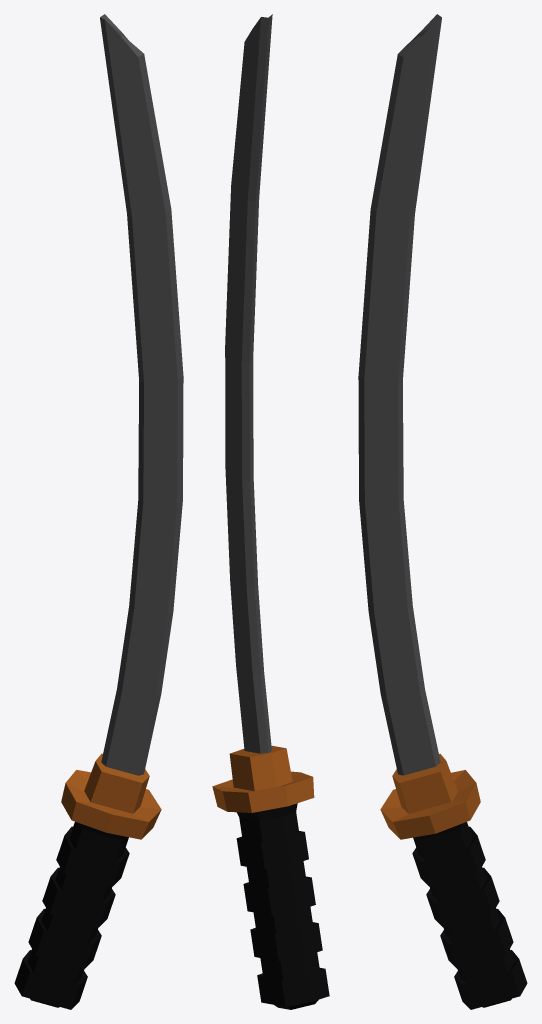
Rendered from Katana.glb.
The picture shows the model from 3 angles, left to right: view 1: azimuth 90°, elevation 25°; view 2: azimuth 210°, elevation 25°; view 3: azimuth 270°, elevation 25°; orthographic projection.
Visible parts, largest first — view 1: Katana_Cube.002; view 2: Katana_Cube.002; view 3: Katana_Cube.002.
Boxes of the visible parts, bbox=[...] form: Katana_Cube.002: bbox=[14, 14, 183, 1009]; Katana_Cube.002: bbox=[212, 14, 329, 1009]; Katana_Cube.002: bbox=[358, 14, 527, 1009].
Bounding box in the file's own units: 0.3165 × 3.77 × 0.5866.
